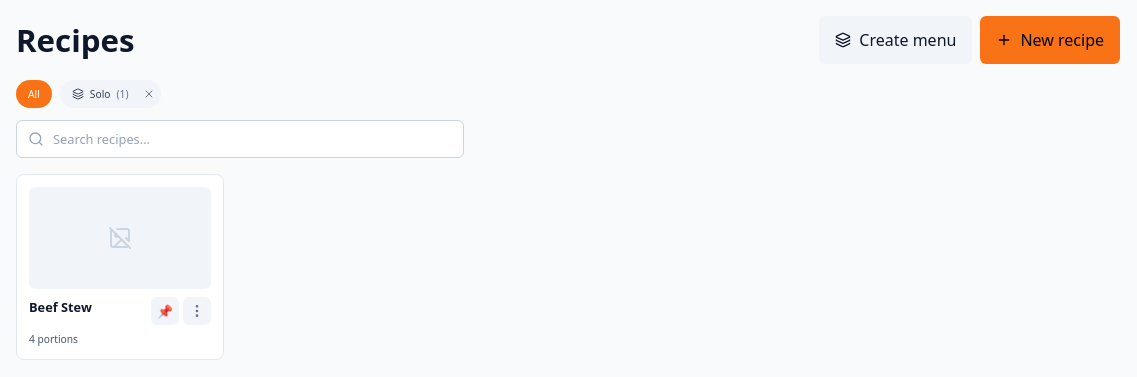
Test: RecipesLibrary › deleting a chip removes the menu and resets the active filter when needed
Click the button with test id "recipes-filter-chip-m_seed_2" at (98, 94), box [60,80,136,108]
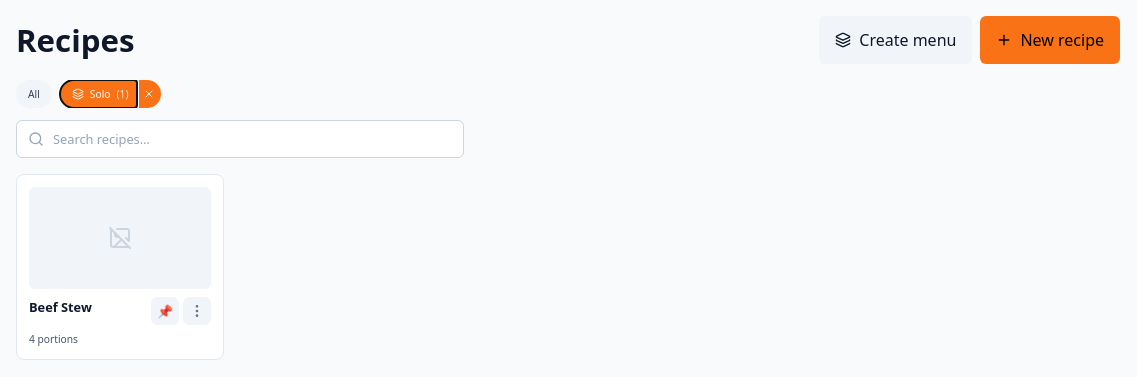
Expected: the button with test id "recipes-filter-chip-m_seed_2" is pressed, [60,80,136,108]
Click the button with test id "recipes-filter-chip-delete-m_seed_2" at (148, 94), box [136,80,160,108]
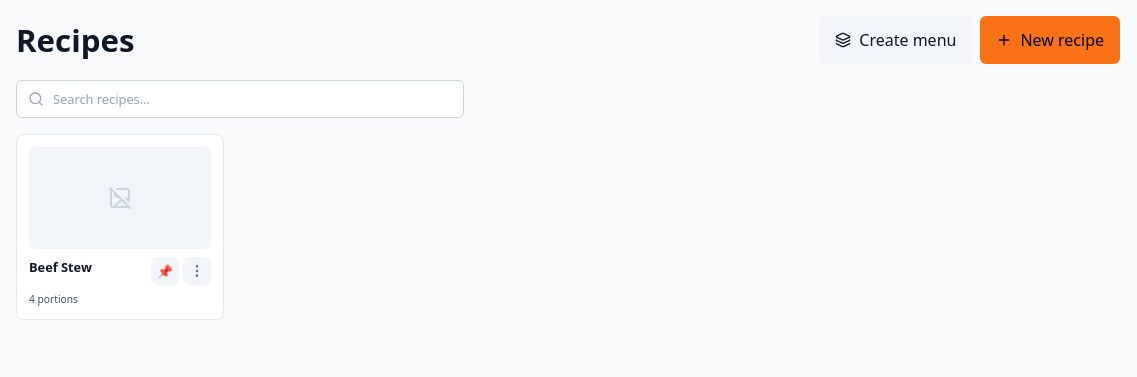
Expected: the link "Beef Stew" is shown, [29,258,92,276]
Expected: the button with test id "recipes-filter-chip-m_seed_2" is gone
Expected: the element with test id "recipes-filter-chip-row" is gone
